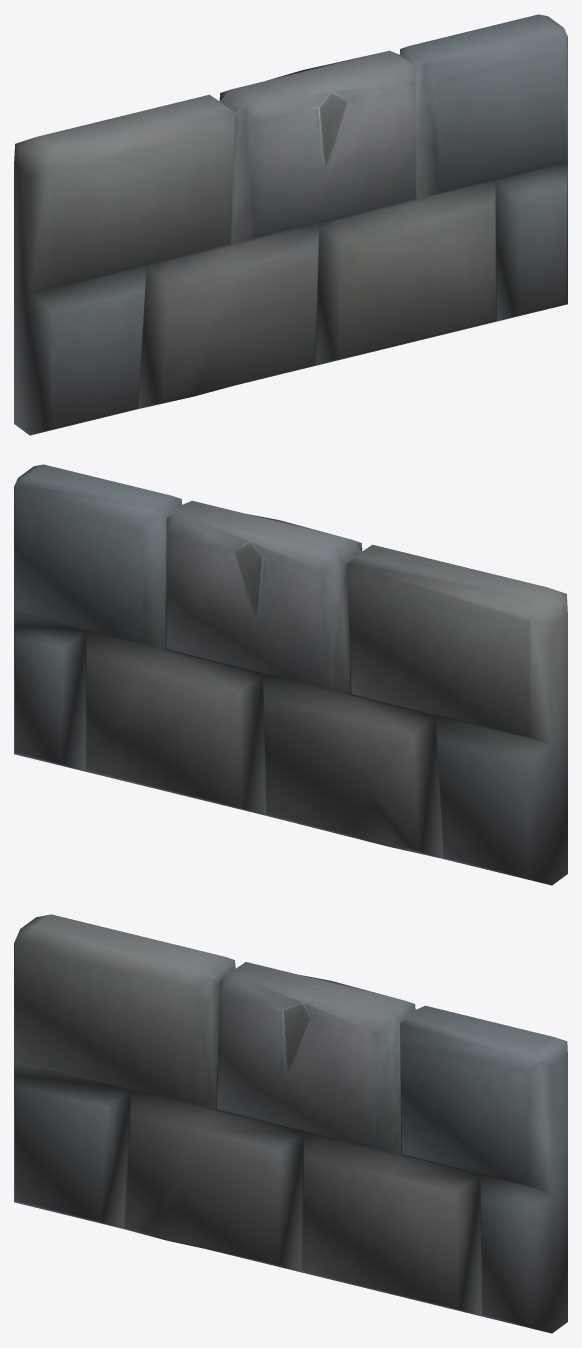
Rendered from wall_brick.fbx.
3 views of the same model, one above another, from view 1: azimuth 30°, elevation 25°; view 2: azimuth 150°, elevation 25°; view 3: azimuth 330°, elevation 25° (orthographic).
Visible parts, largest first — view 1: Wall_Brick; view 2: Wall_Brick; view 3: Wall_Brick.
Part boxes in pixels (bbox=[...]): Wall_Brick: bbox=[14, 14, 567, 435]; Wall_Brick: bbox=[14, 464, 567, 885]; Wall_Brick: bbox=[14, 914, 567, 1333].
Size of the model in its own units: 200 by 100 by 25.02.
